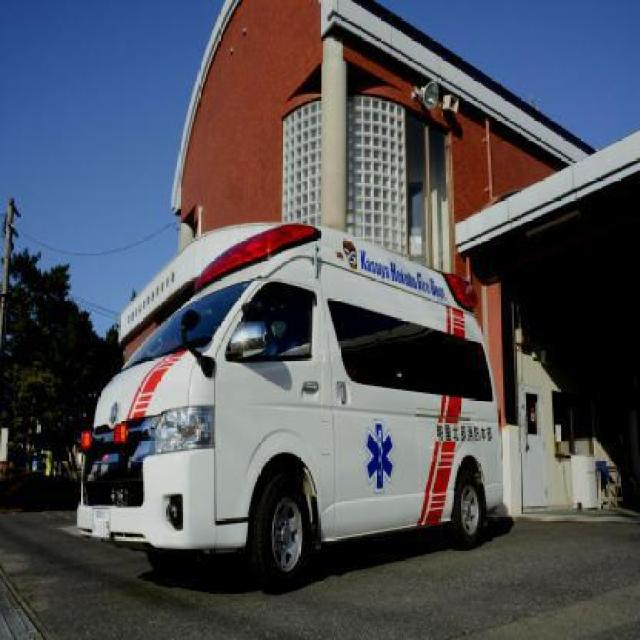Ambulance: (60, 163, 508, 566)
